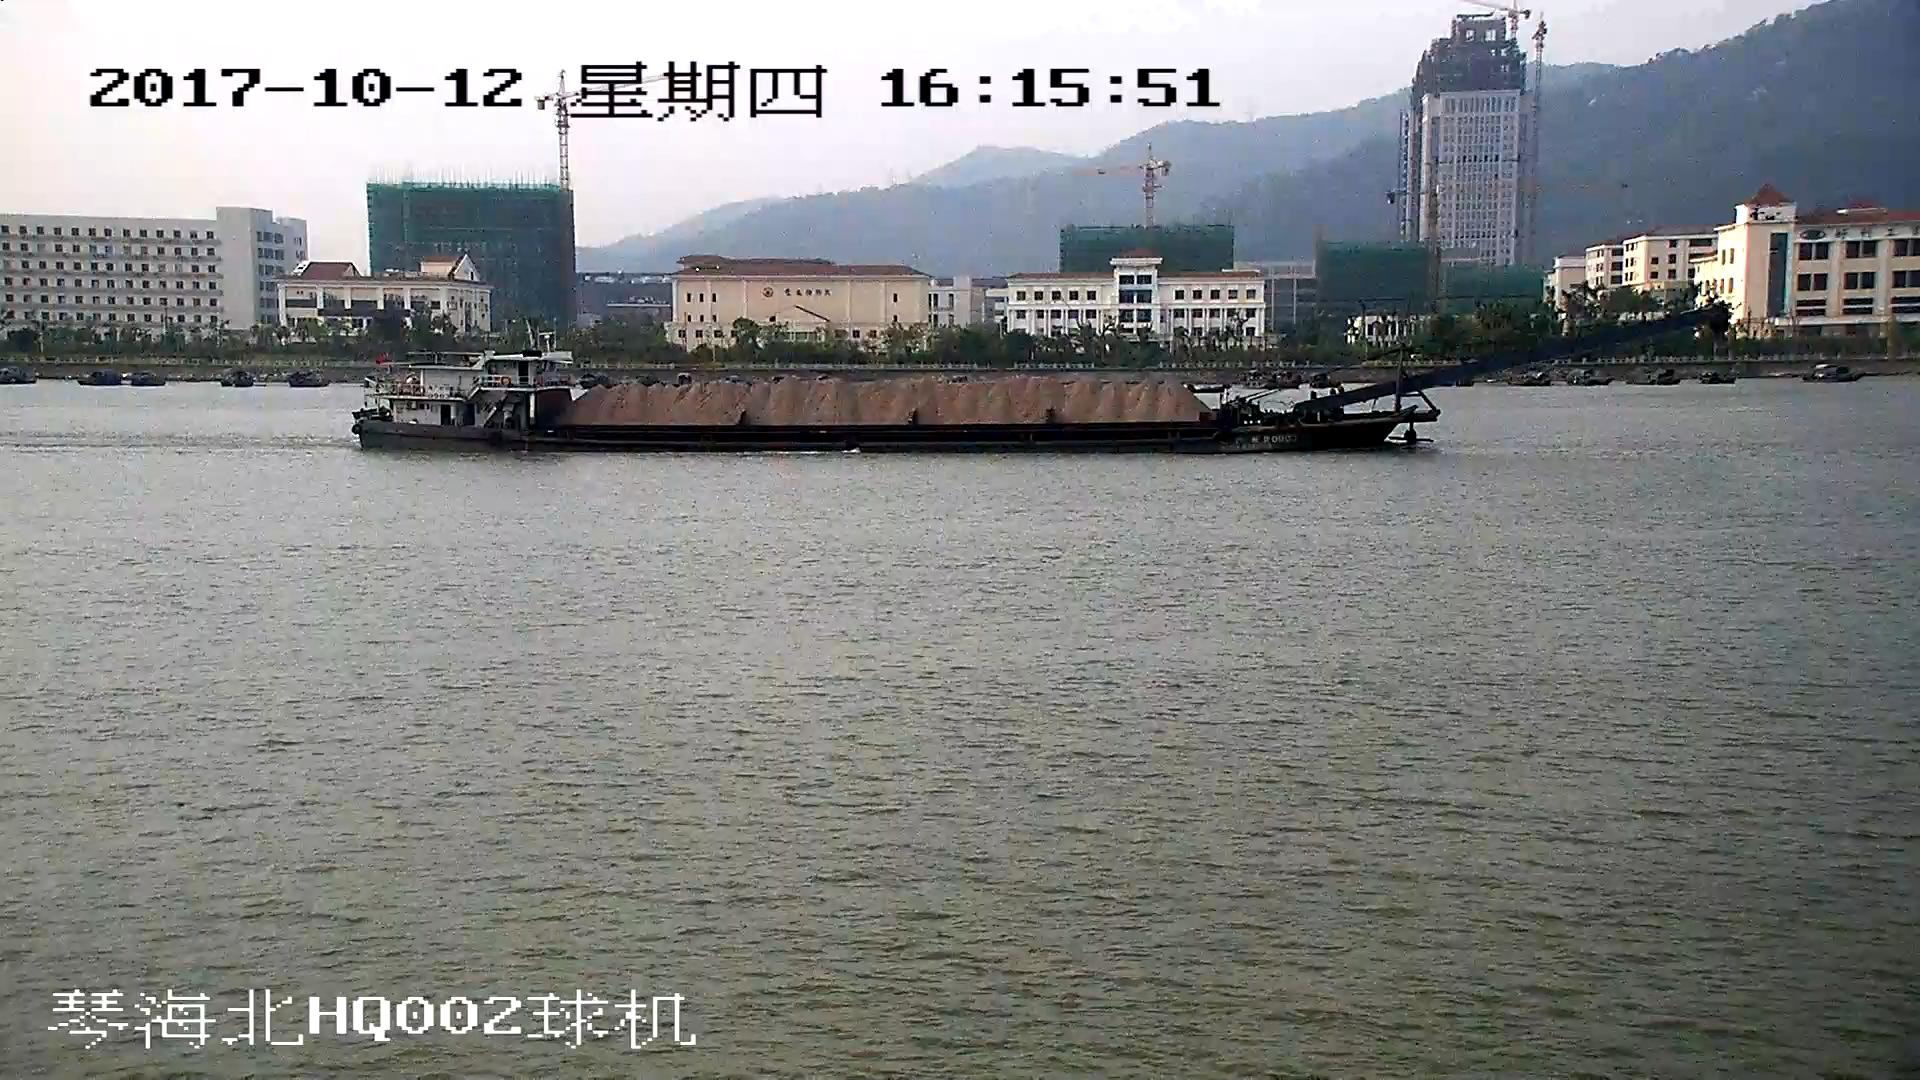ore carrier: (352, 307, 1718, 458)
